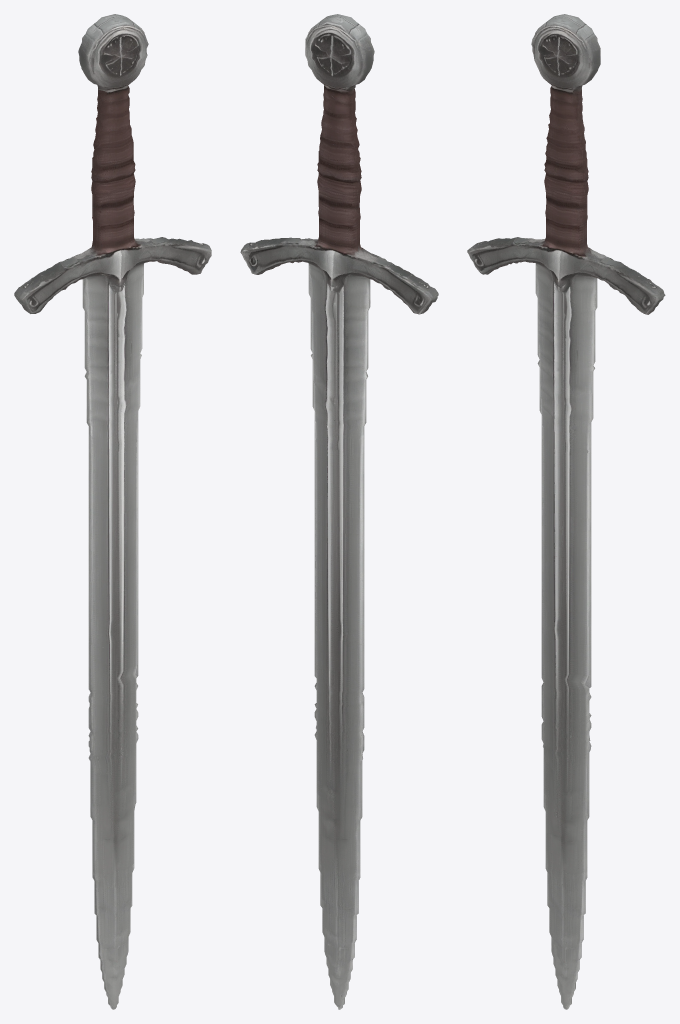
Rendered from Sword_Basic.glb.
3 views of the same model, side by side, from view 1: azimuth 30°, elevation 25°; view 2: azimuth 150°, elevation 25°; view 3: azimuth 330°, elevation 25° (orthographic).
Bounding box in the file's own units: 0.3874 × 1.91 × 0.0588.
Materials: 1 (1 with a texture image).
